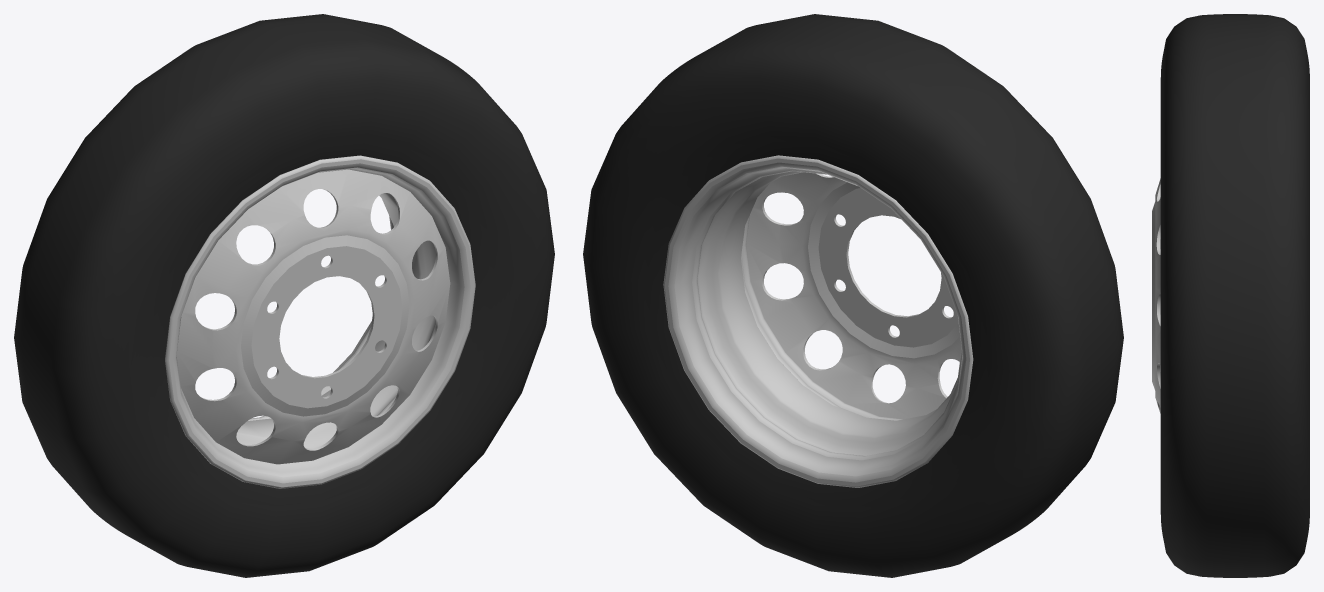
File: wheel.glb
3 renders of one model, left to right at view 1: azimuth 30°, elevation 25°; view 2: azimuth 150°, elevation 25°; view 3: azimuth 270°, elevation 25°, orthographic.
Visible parts, largest first — view 1: wheel; view 2: wheel; view 3: wheel.
Boxes of the visible parts, left/top/right/bottom form: wheel: left=14, top=14, right=554, bottom=577; wheel: left=583, top=14, right=1123, bottom=577; wheel: left=1152, top=14, right=1309, bottom=577.
Size of the model in its own units: 275 by 275 by 76.63.
Materials: 1 (1 with a texture image).
